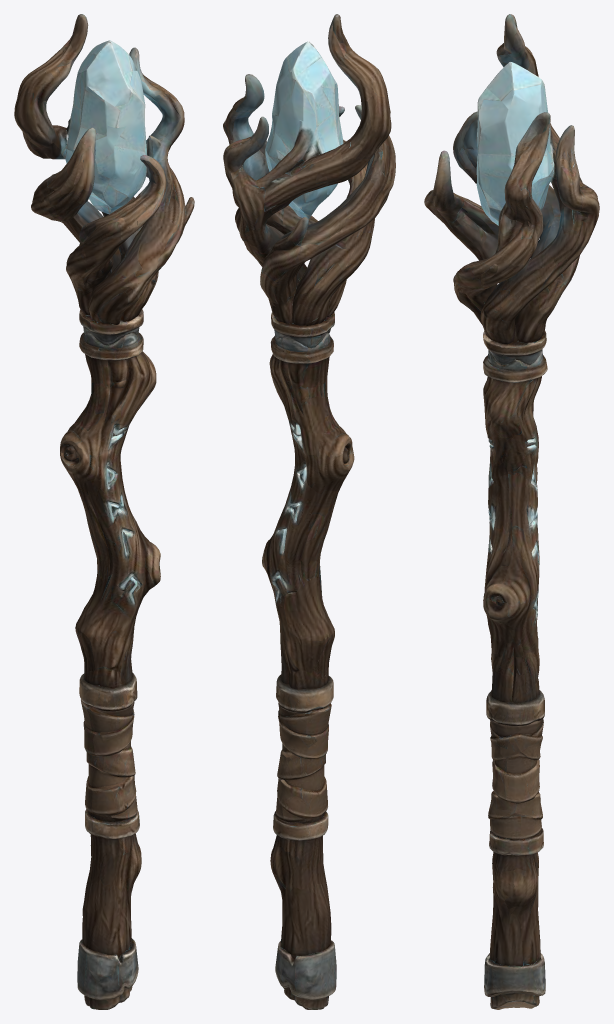
File: gnarled_staff.glb
3 renders of one model, left to right at view 1: azimuth 30°, elevation 25°; view 2: azimuth 150°, elevation 25°; view 3: azimuth 270°, elevation 25°, orthographic.
Visible parts, largest first — view 1: Mesh_0; view 2: Mesh_0; view 3: Mesh_0.
Boxes of the visible parts, box(x1,y1,x2,y2) form: Mesh_0: box(14, 14, 194, 1009); Mesh_0: box(223, 14, 395, 1009); Mesh_0: box(424, 14, 599, 1009).
Size of the model in its own units: 0.331 by 1.9 by 0.306.
1 material, 1 textured.
